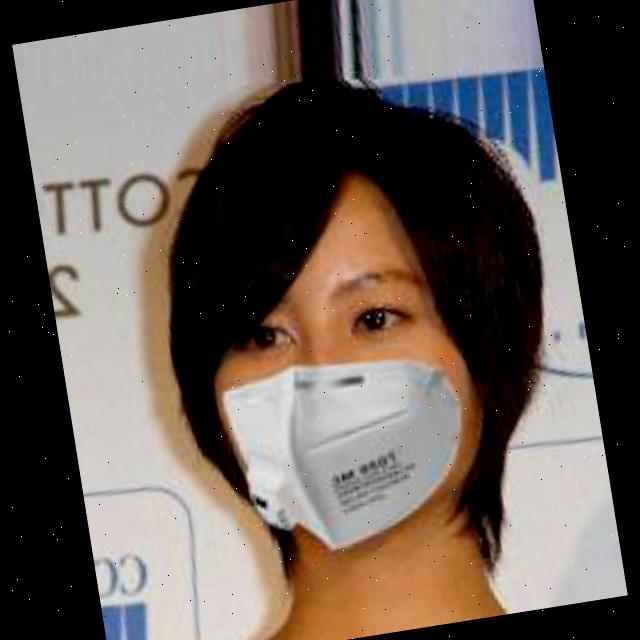suspicion: (101, 79, 580, 576)
